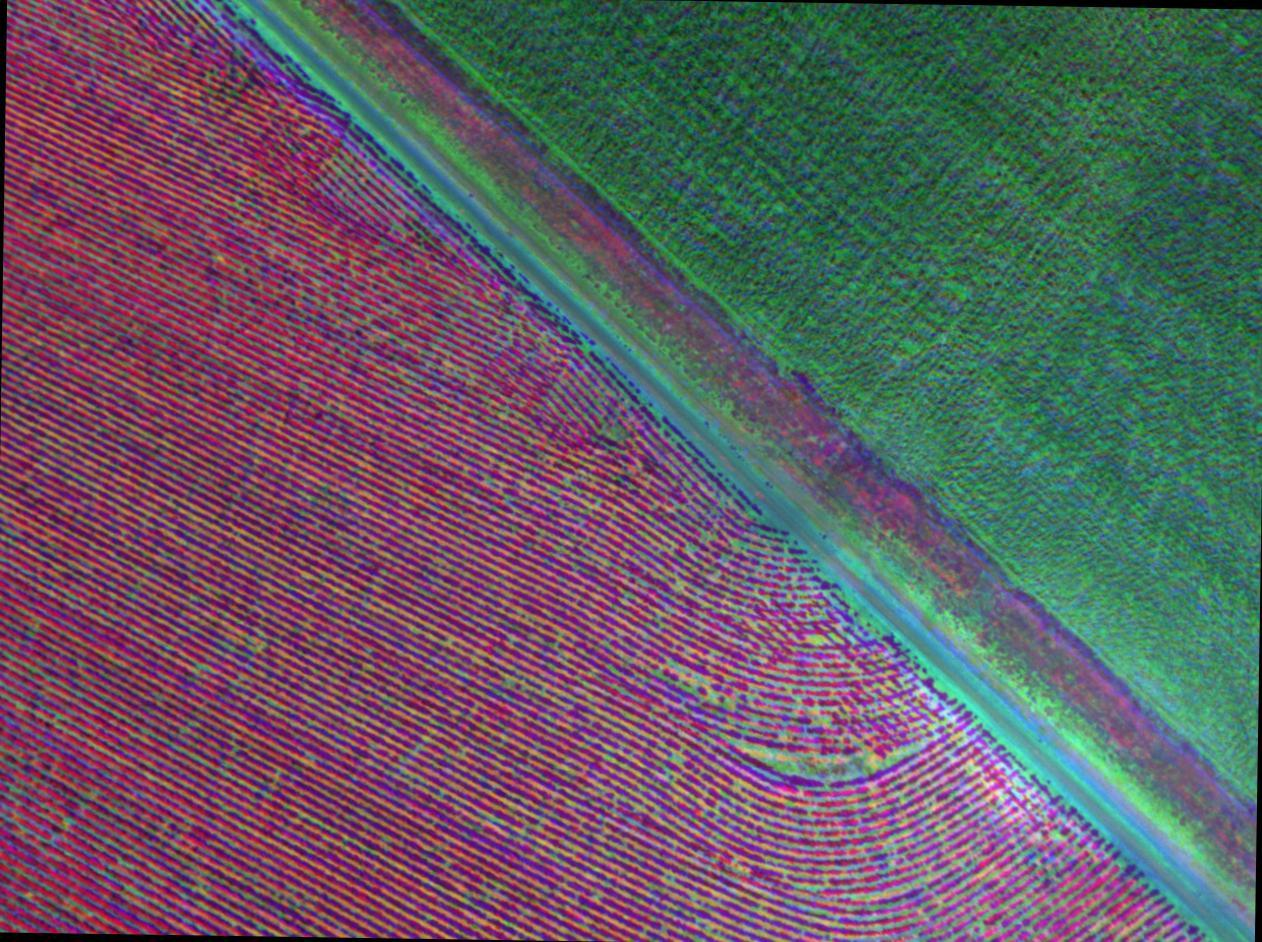dc: (711, 718, 940, 785), (973, 840, 1064, 938), (651, 643, 742, 709), (691, 523, 761, 602), (563, 810, 629, 860)
